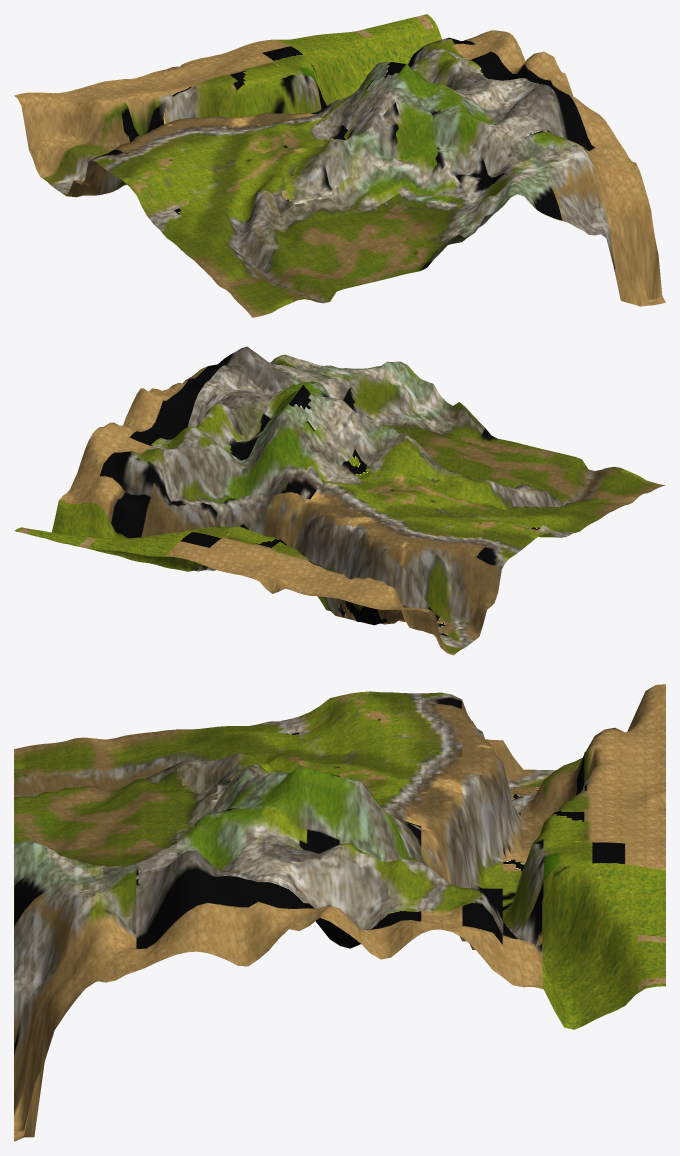
File: terrain.glb
3 views of the same model, one above another, from view 1: azimuth 30°, elevation 25°; view 2: azimuth 150°, elevation 25°; view 3: azimuth 270°, elevation 25° (orthographic). The views are drawn at different scales.
Visible parts, largest first — view 1: terrain_3_3; view 2: terrain_3_3; view 3: terrain_3_3.
Boxes of the visible parts, x1,y1,x2,y2 form: terrain_3_3: (14, 14, 665, 317); terrain_3_3: (14, 346, 665, 655); terrain_3_3: (14, 684, 665, 1141).
Size of the model in its own units: 512 by 237 by 512.
1 material, 1 textured.
